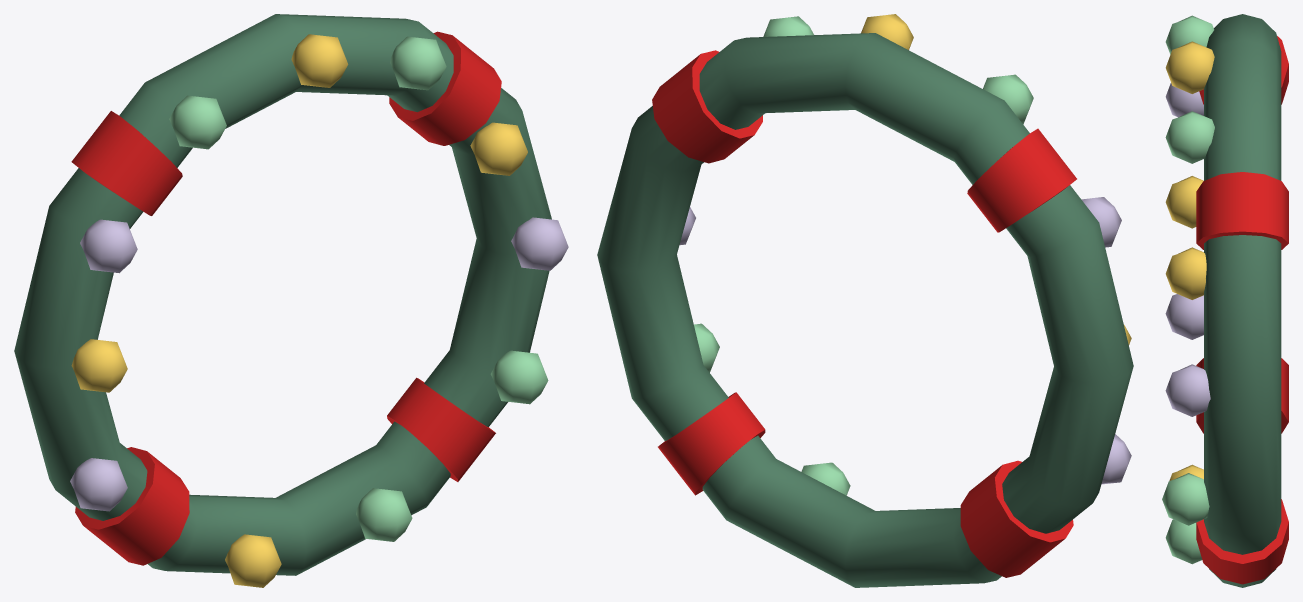
The model's file is Christmas_wreath_1.glb.
3 views of the same model, side by side, from view 1: azimuth 30°, elevation 25°; view 2: azimuth 150°, elevation 25°; view 3: azimuth 270°, elevation 25° (orthographic). The views are drawn at different scales.
Visible parts, largest first — view 1: Christmas_wreath_1; view 2: Christmas_wreath_1; view 3: Christmas_wreath_1.
Boxes of the visible parts, left/top/right/bottom form: Christmas_wreath_1: left=14, top=14, right=568, bottom=587; Christmas_wreath_1: left=597, top=14, right=1133, bottom=587; Christmas_wreath_1: left=1162, top=14, right=1288, bottom=587.
Size of the model in its own units: 0.655 by 0.655 by 0.1443.
Materials: 1 (1 with a texture image).
